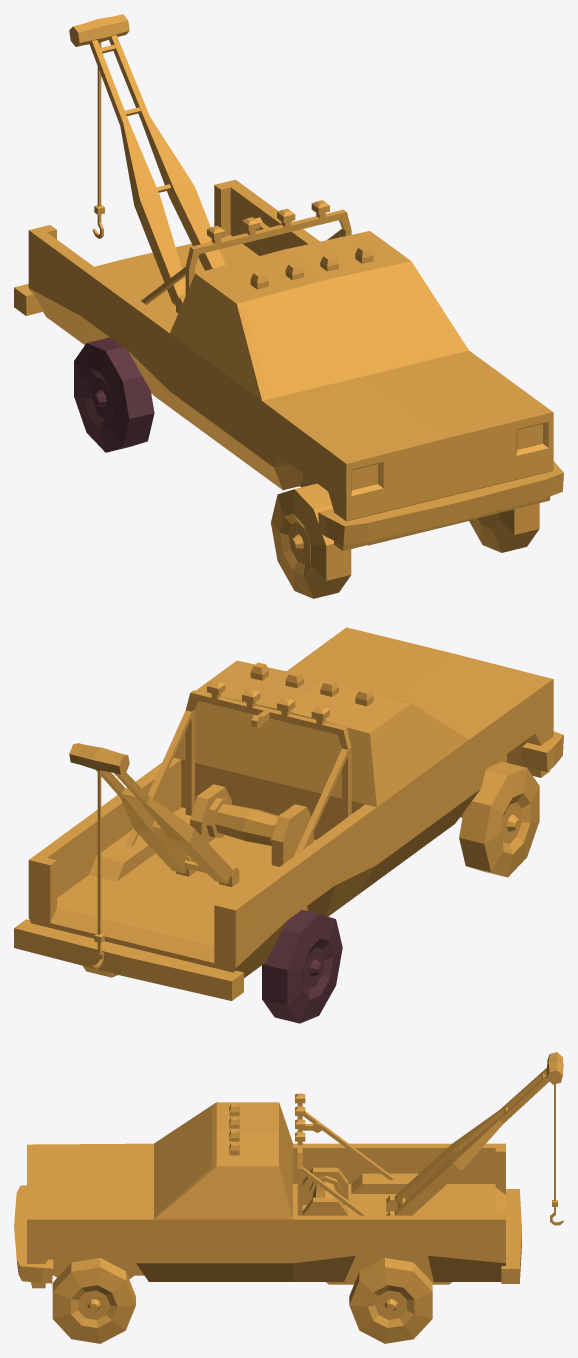
The model's file is car-tow-truck.glb.
3 views of the same model, one above another, from view 1: azimuth 30°, elevation 25°; view 2: azimuth 150°, elevation 25°; view 3: azimuth 270°, elevation 25° (orthographic). The views are drawn at different scales.
Visible parts, largest first — view 1: car-tow-truck-base, car-tow-truck_BR, car-tow-truck-wheel_FR, car-tow-truck-wheel_FL; view 2: car-tow-truck-base, car-tow-truck-wheel_FR, car-tow-truck_BR; view 3: car-tow-truck-base, car-tow-truck-wheel_FL, car-tow-truck-wheel_BL.
Part boxes in pixels (bbox=[...]): car-tow-truck-base: bbox=[14, 14, 563, 550]; car-tow-truck_BR: bbox=[74, 337, 154, 452]; car-tow-truck-wheel_FR: bbox=[271, 483, 351, 598]; car-tow-truck-wheel_FL: bbox=[469, 503, 539, 552]; car-tow-truck-base: bbox=[14, 627, 563, 1000]; car-tow-truck-wheel_FR: bbox=[459, 761, 539, 877]; car-tow-truck_BR: bbox=[262, 909, 342, 1023]; car-tow-truck-base: bbox=[14, 1052, 563, 1288]; car-tow-truck-wheel_FL: bbox=[52, 1258, 135, 1343]; car-tow-truck-wheel_BL: bbox=[349, 1258, 432, 1343].
Bounding box in the file's own units: 1.96 × 2.66 × 5.43.
